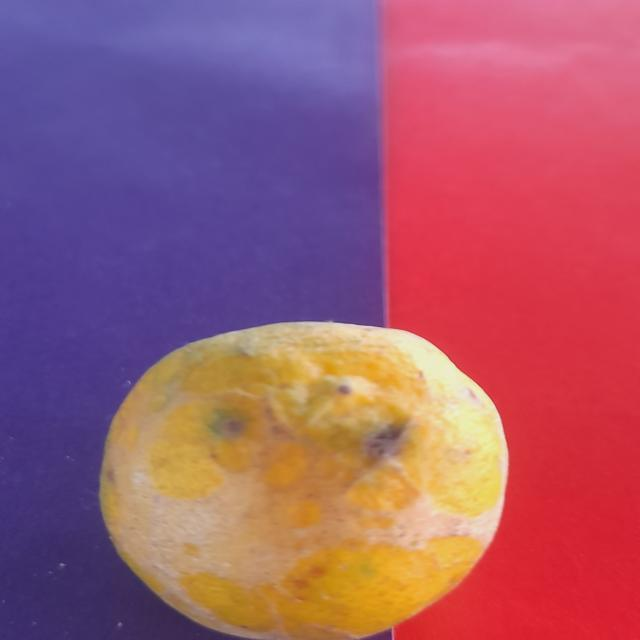thrips: (113, 314, 538, 626)
